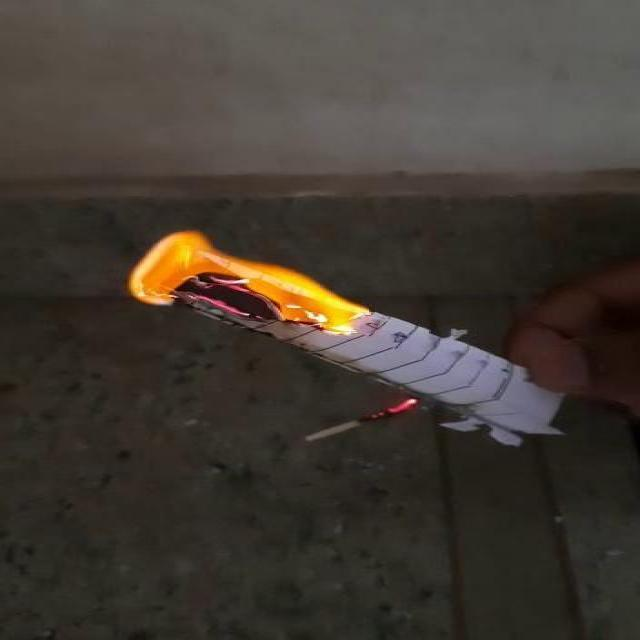Fire: (125, 222, 366, 341)
